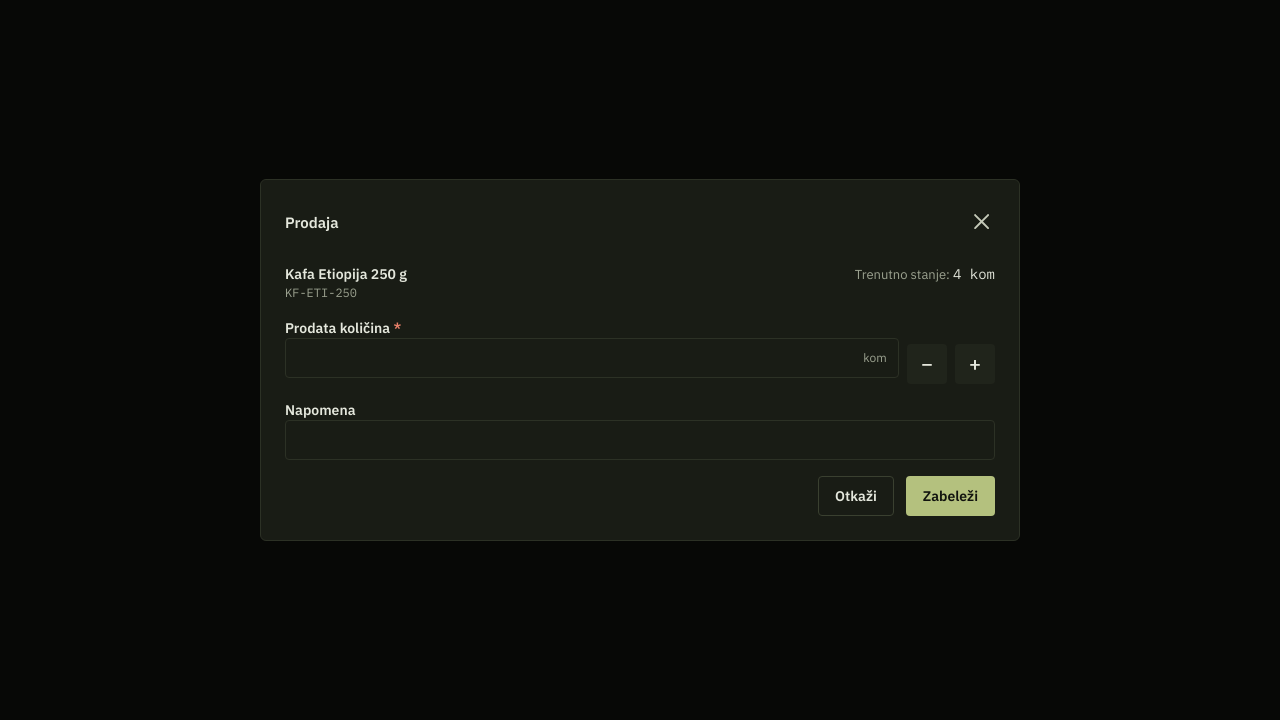
it: MovementModal › Type_SaleBeyondStock_WarnsButAllows
In the field labelled "Prodata količina *": {"x": 592, "y": 358} [285, 338, 899, 378], type "6"
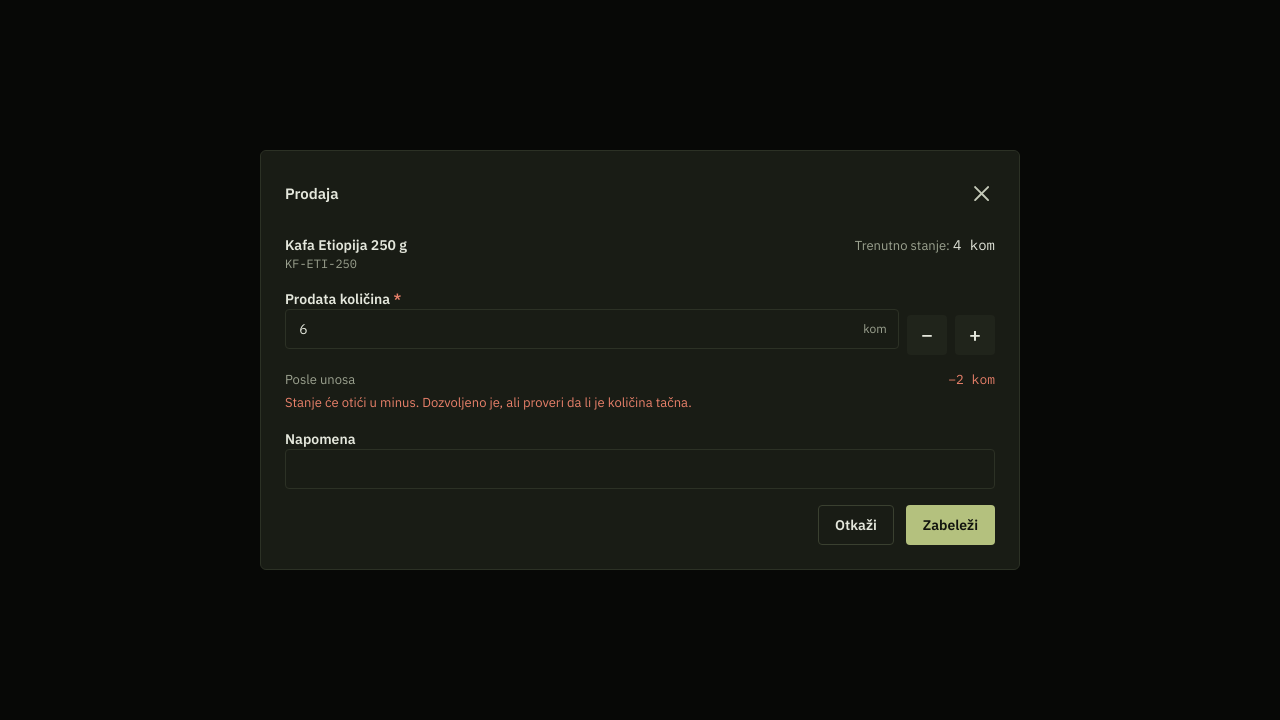
Check: the button "Zabeleži" is enabled, box [906, 505, 995, 545]
Check: the text "Stanje će otići u minus" is shown, box [285, 394, 692, 411]
